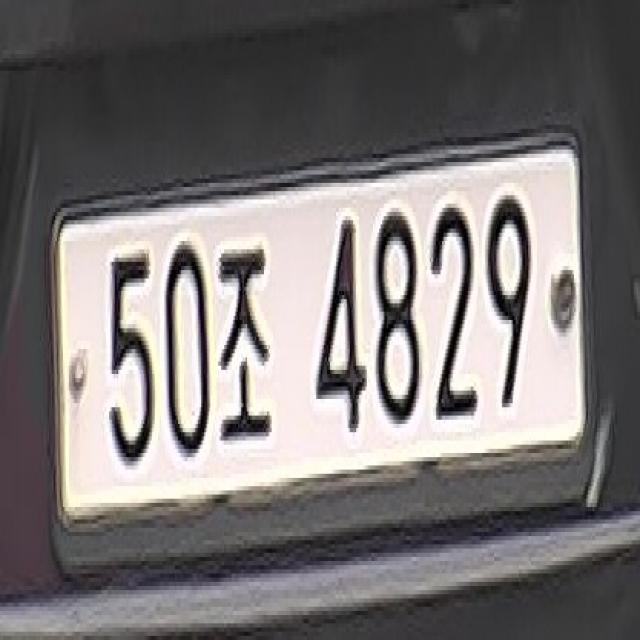0: (164, 232, 212, 468)
2: (430, 156, 483, 444)
4: (314, 209, 370, 462)
5: (104, 240, 160, 475)
8: (371, 193, 426, 448)
9: (487, 165, 531, 423)
jo: (218, 217, 278, 459)
license_plate: (40, 129, 592, 542)
